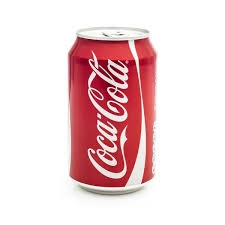can: (65, 25, 159, 198)
